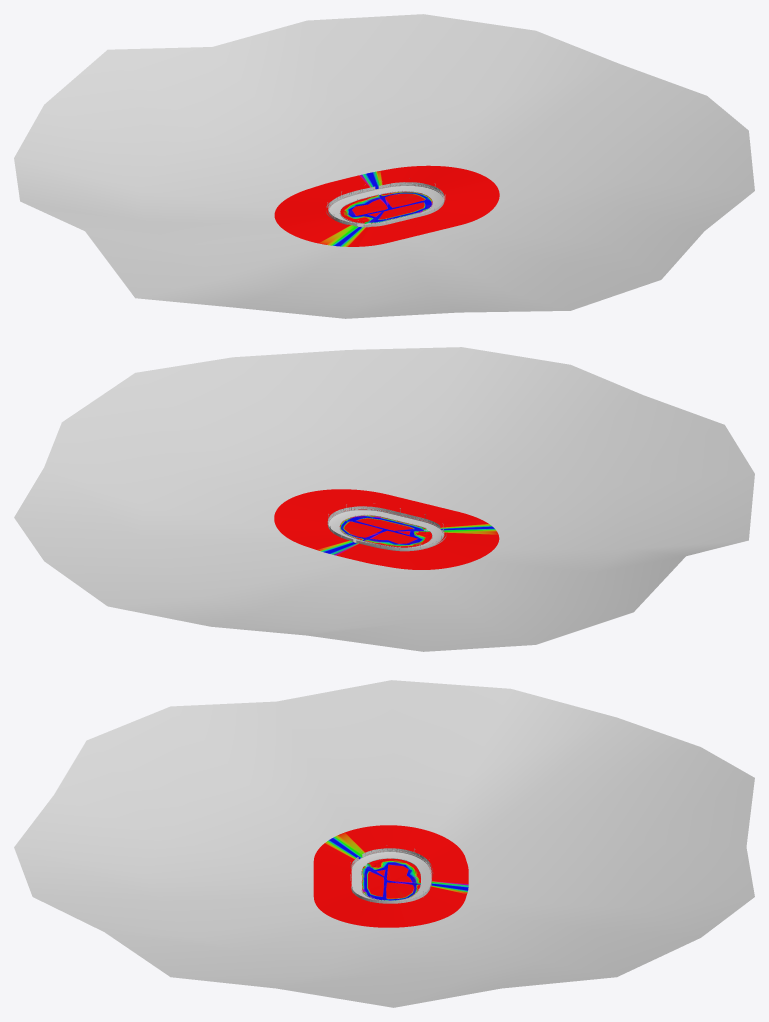
Rendered from Track01_V1.fbx.
The picture shows the model from 3 angles, top to bottom: view 1: azimuth 30°, elevation 25°; view 2: azimuth 150°, elevation 25°; view 3: azimuth 270°, elevation 25°; orthographic projection.
Visible parts, largest first — view 1: SU_Background_NO_GI, Terrain2, Terrain, Track, Fence02; view 2: SU_Background_NO_GI, Terrain2, Terrain, Track, Fence02; view 3: SU_Background_NO_GI, Terrain2, Terrain, Track.
Boxes of the visible parts, x1,y1,x2,y2 form: SU_Background_NO_GI: (14,14,754,318); Terrain2: (274,165,499,246); Terrain: (340,191,432,223); Track: (328,185,444,227); Fence02: (328,182,444,227); SU_Background_NO_GI: (14,347,754,651); Terrain2: (274,489,499,569); Terrain: (339,515,432,547); Track: (328,509,443,547); Fence02: (328,506,444,550); SU_Background_NO_GI: (14,680,754,1007); Terrain2: (313,825,468,927); Terrain: (362,858,420,900); Track: (351,851,431,900).
Bounding box in the file's own units: 127933 × 13398 × 127934.
